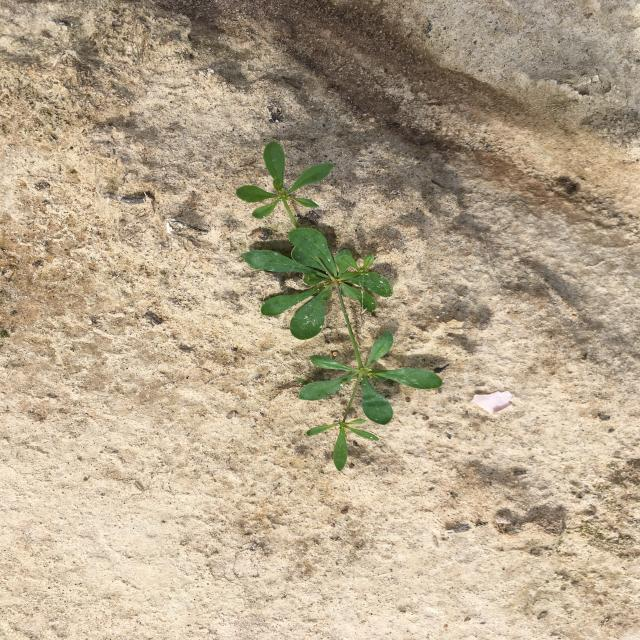Carpetweed: (235, 141, 443, 472)
